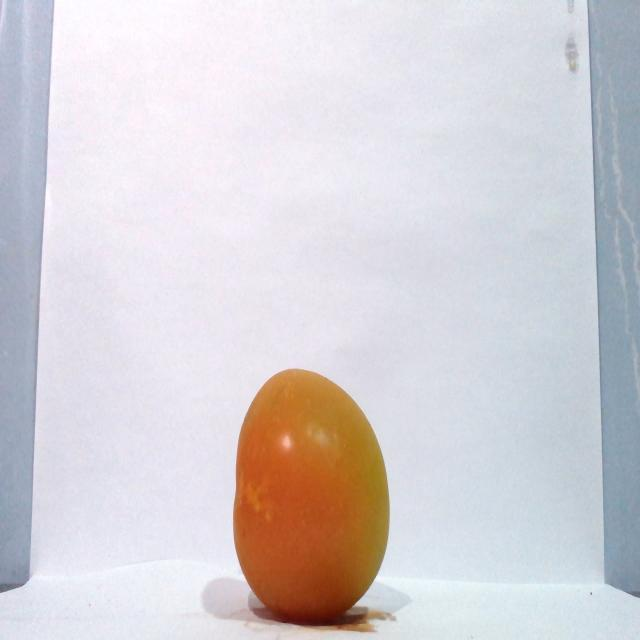Red: (231, 366, 391, 622)
